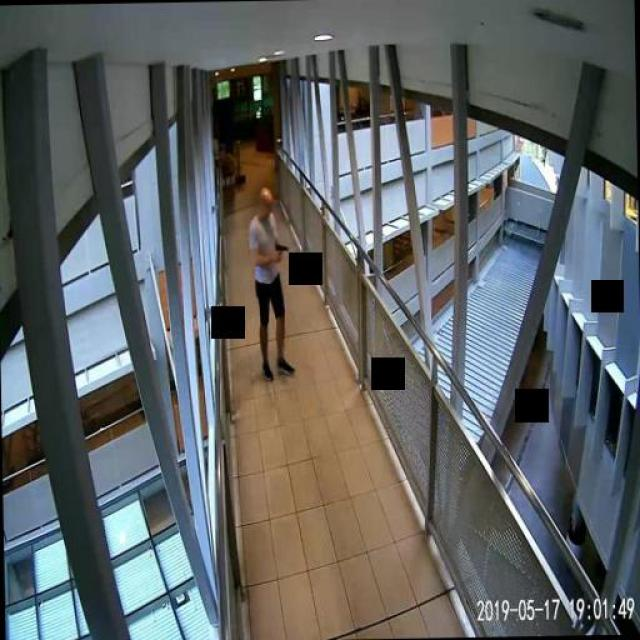gun: (274, 240, 286, 259)
